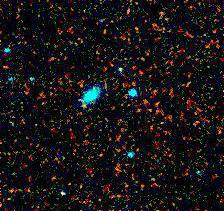star: (72, 95, 102, 125)
